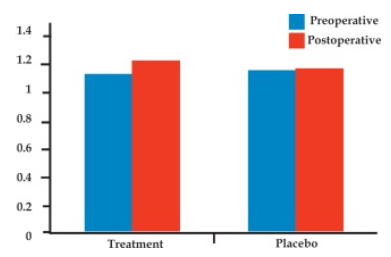OK_NoIssue: (10, 11, 391, 257)
